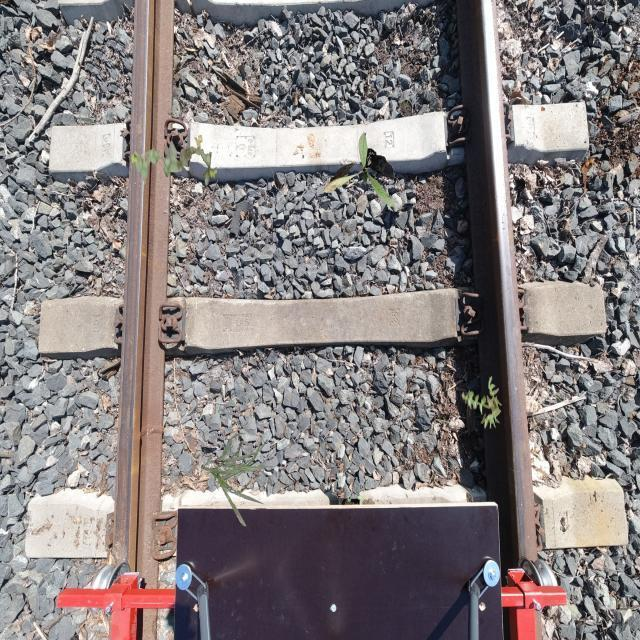Plant: (202, 433, 275, 526), (323, 133, 394, 208), (131, 135, 218, 186), (461, 376, 502, 430)
